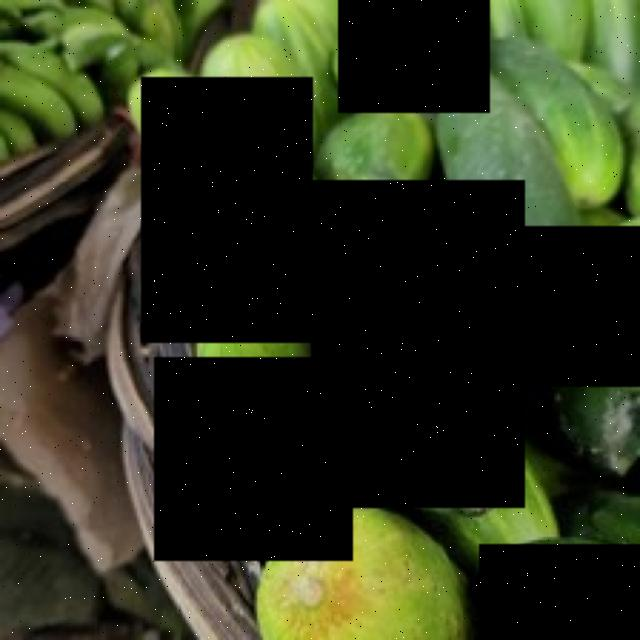Cucumber: (312, 180, 526, 508), (141, 78, 313, 344), (155, 358, 354, 562), (454, 226, 640, 388), (339, 0, 491, 113), (479, 544, 640, 640)
